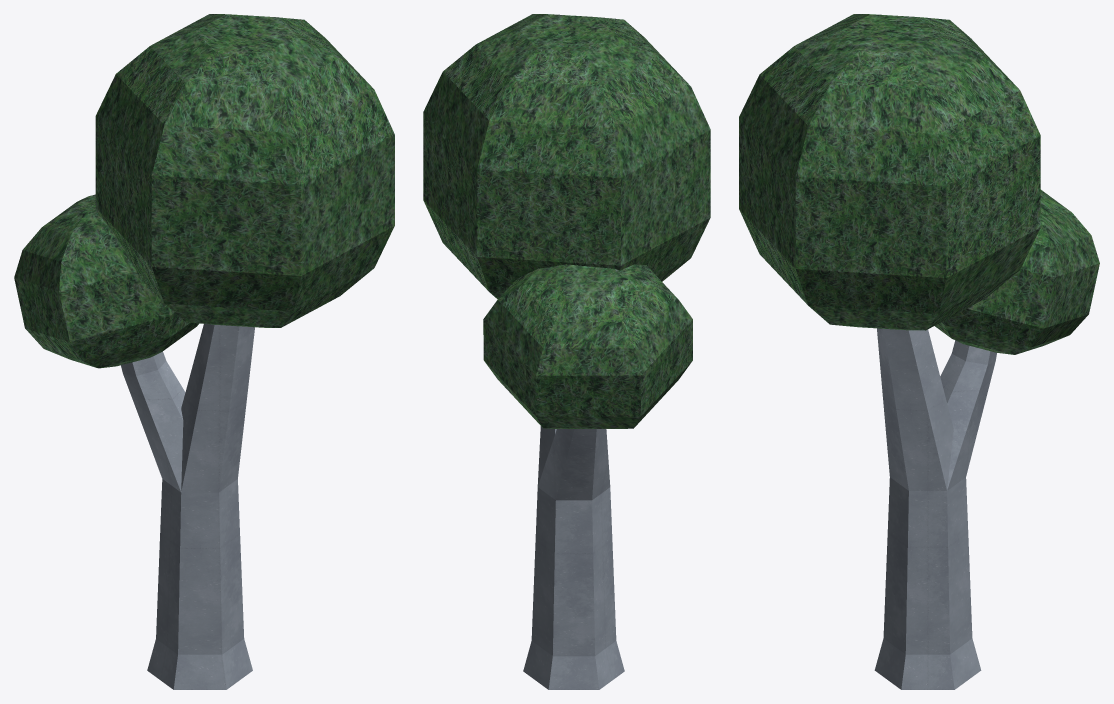
The model's file is Oak_Tree_3.fbx.
The picture shows the model from 3 angles, left to right: view 1: azimuth 30°, elevation 25°; view 2: azimuth 150°, elevation 25°; view 3: azimuth 270°, elevation 25°; orthographic projection. The views are drawn at different scales.
Visible parts, largest first — view 1: Tree_Oak_3; view 2: Tree_Oak_3; view 3: Tree_Oak_3.
Part boxes in pixels (left/top/right/bottom): Tree_Oak_3: left=14, top=14, right=394, bottom=689; Tree_Oak_3: left=423, top=14, right=710, bottom=689; Tree_Oak_3: left=739, top=14, right=1099, bottom=689.
Size of the model in its own units: 21.4 by 47 by 23.68.
